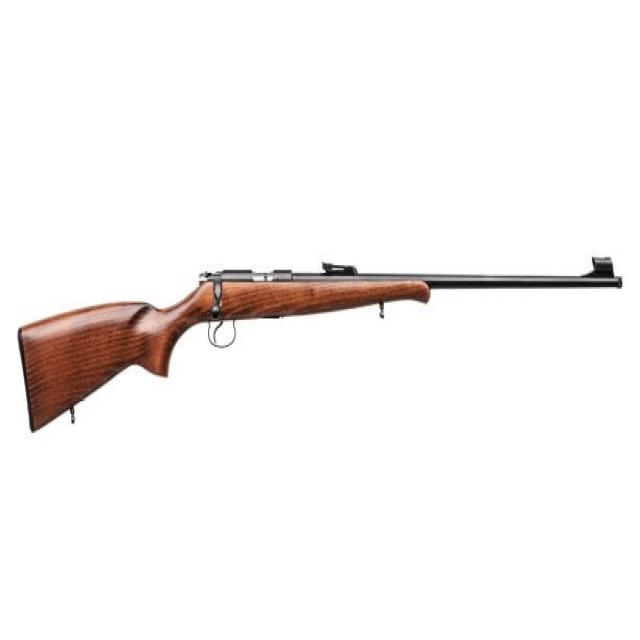rifle: (7, 223, 628, 452)
